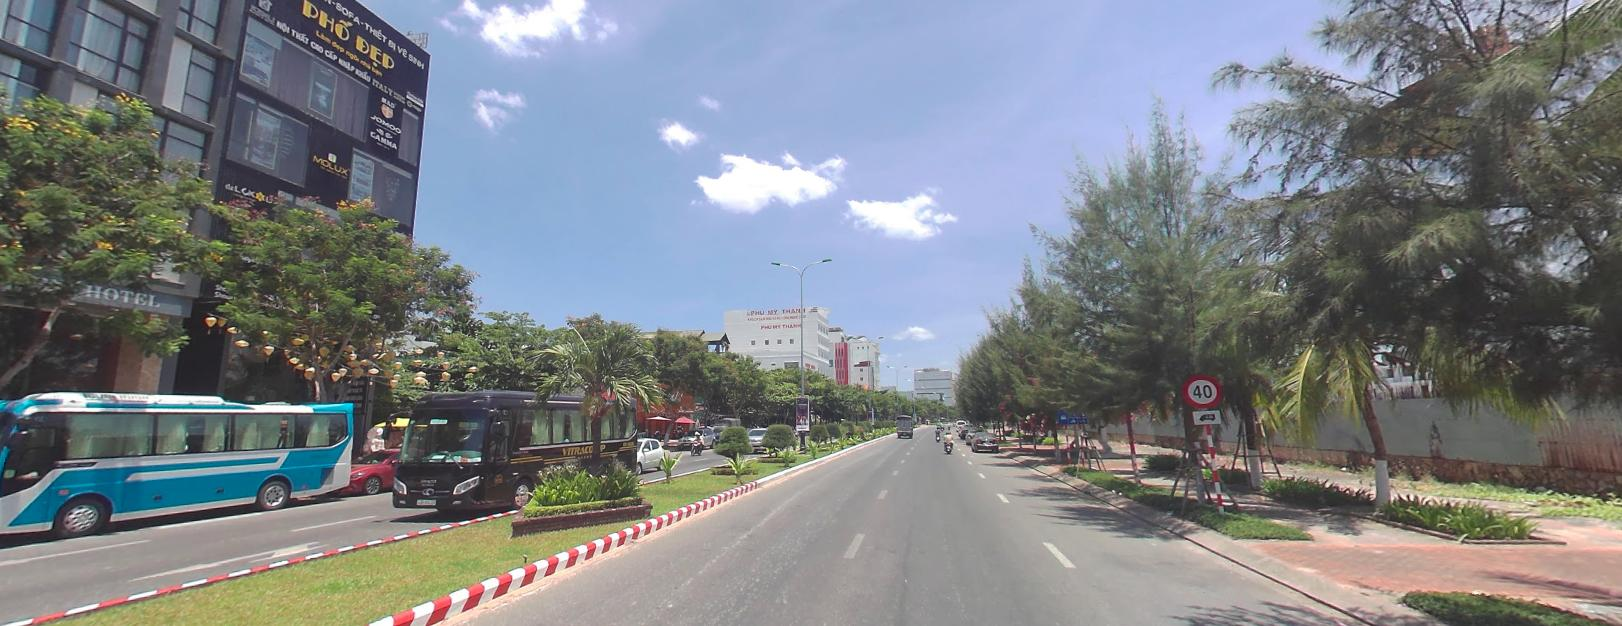Gioi han toc do: (1181, 371, 1220, 406)
